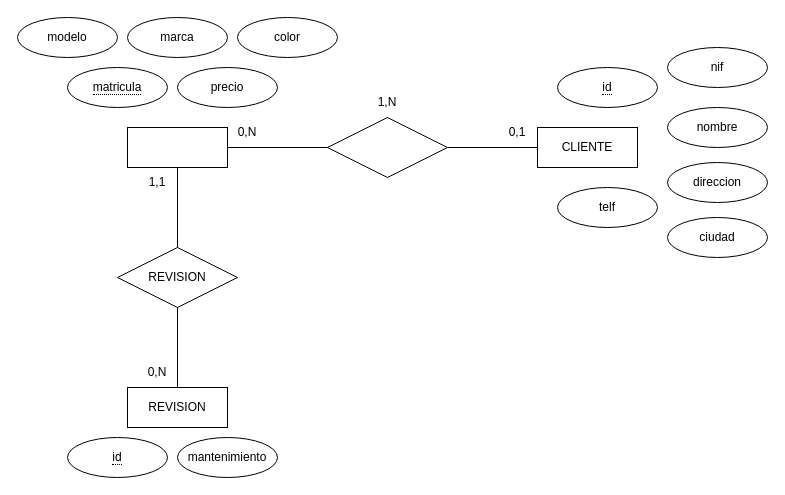
This 785x495 diagram has some shape labels left out. The box of each missing label's shape, as (x1, y1, x2, y2) in pixels:
COCHE: (126, 126, 228, 168)
VENTA: (326, 116, 448, 178)
